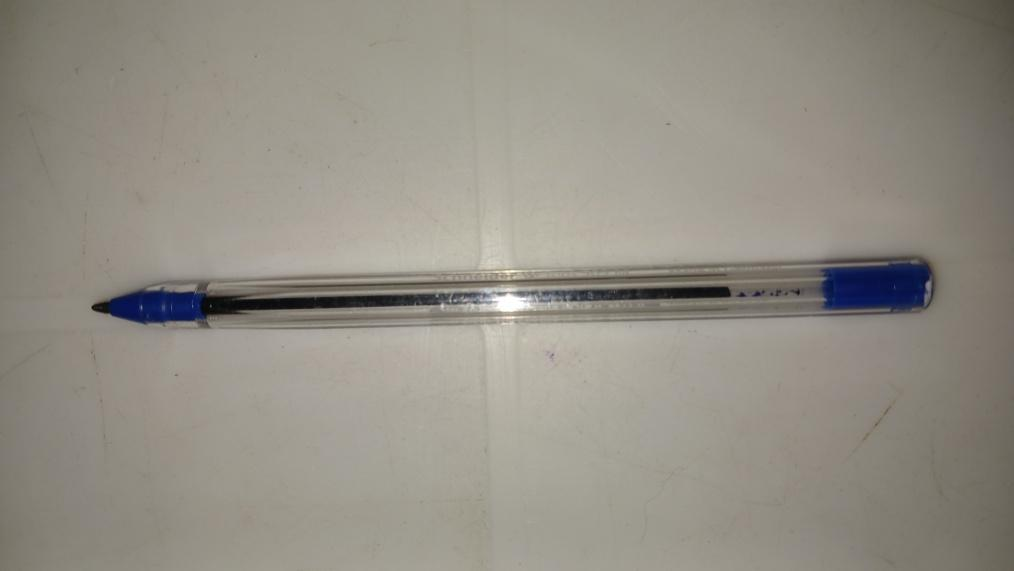pen: (90, 256, 933, 330)
